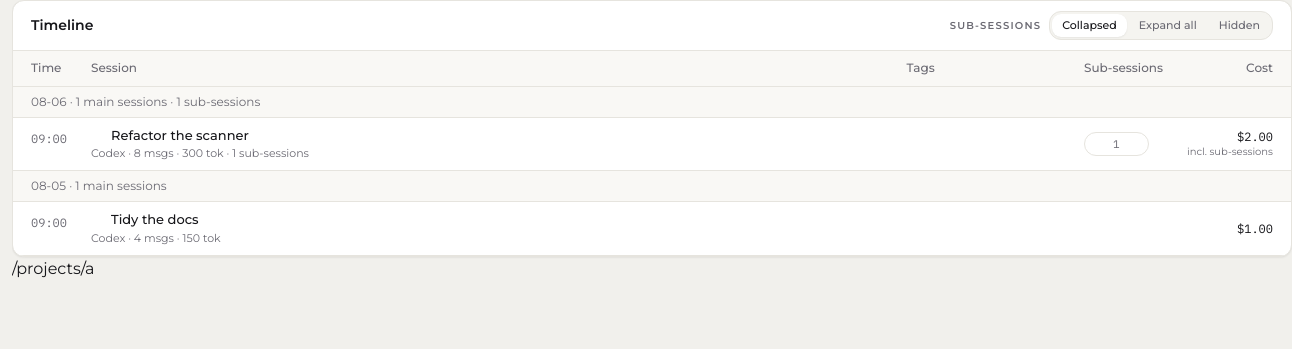
it: ProjectTimeline › hides the pill and panel in Hidden mode without changing the parent's numbers
Click the button "1". click: (1116, 144)
box: [1084,132,1149,156]
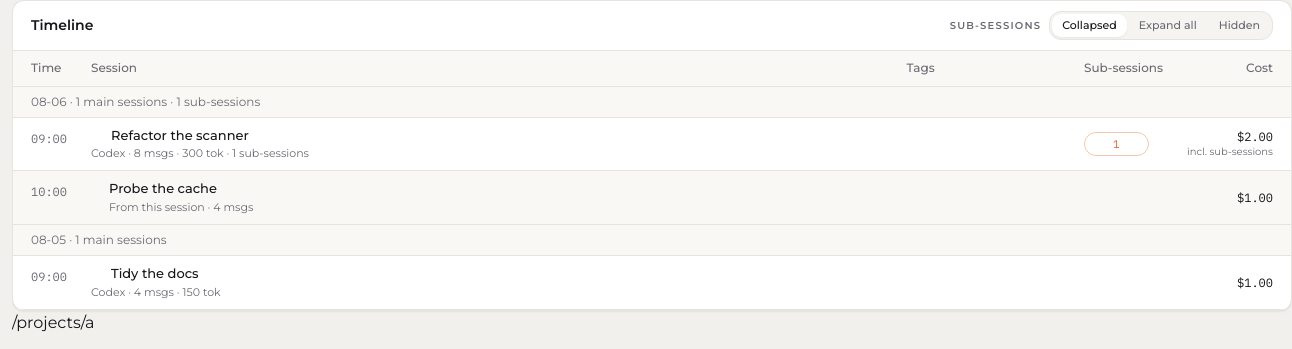
Click the radio button labelled "Hidden". click: (1239, 25)
box: [1209,14,1270,36]
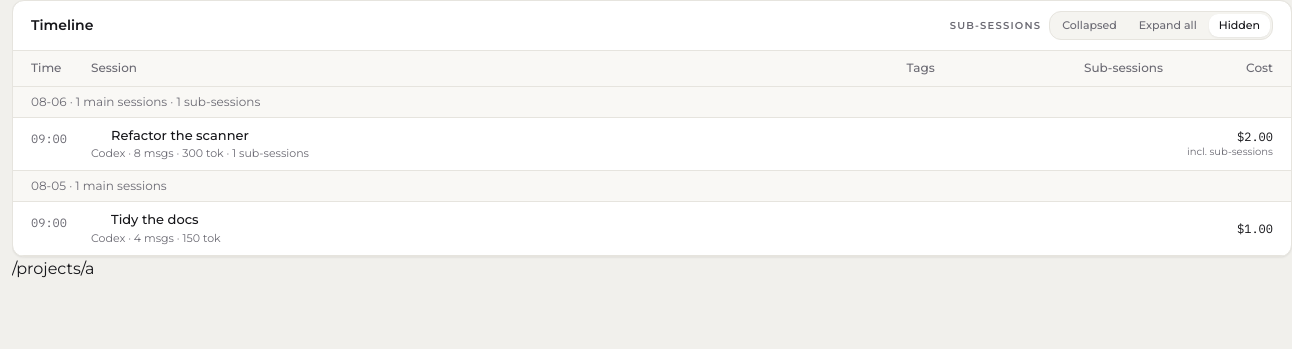
expect the button "Refactor the scanner" shows "1 sub-sessions": met, box [91,126,883,161]
expect the button "Probe the cache" is gone: met
